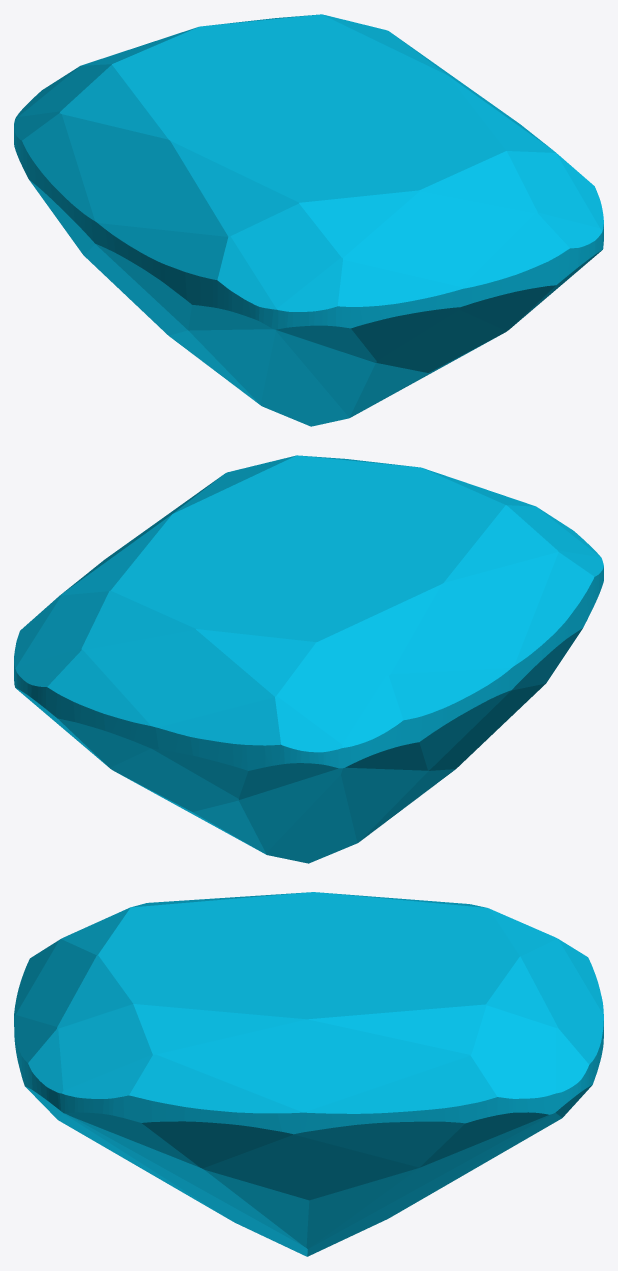
Rendered from Head_No Halo_Elongated Cushion_3.0ct_Diamond.glb.
3 renders of one model, top to bottom at view 1: azimuth 30°, elevation 25°; view 2: azimuth 150°, elevation 25°; view 3: azimuth 270°, elevation 25°, orthographic. The views are drawn at different scales.
Bounding box in the file's own units: 0.00699 × 0.00508 × 0.00904.
